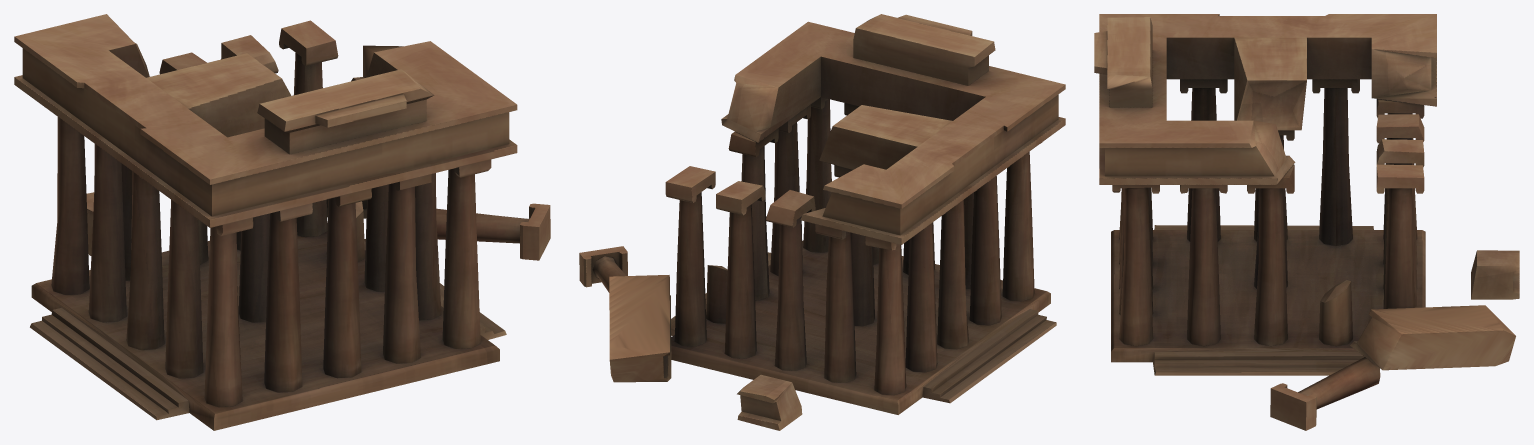
File: Greek_ruins_01.fbx
3 views of the same model, side by side, from view 1: azimuth 30°, elevation 25°; view 2: azimuth 150°, elevation 25°; view 3: azimuth 270°, elevation 25° (orthographic). The views are drawn at different scales.
Parts seen in each view (by area): view 1: polySurface24; view 2: polySurface24; view 3: polySurface24.
Boxes of the visible parts, x1,y1,x2,y2 form: polySurface24: [14, 14, 550, 430]; polySurface24: [579, 14, 1065, 430]; polySurface24: [1094, 14, 1519, 430].
Size of the model in its own units: 25.02 by 14.59 by 22.19.
1 material, 1 textured.
